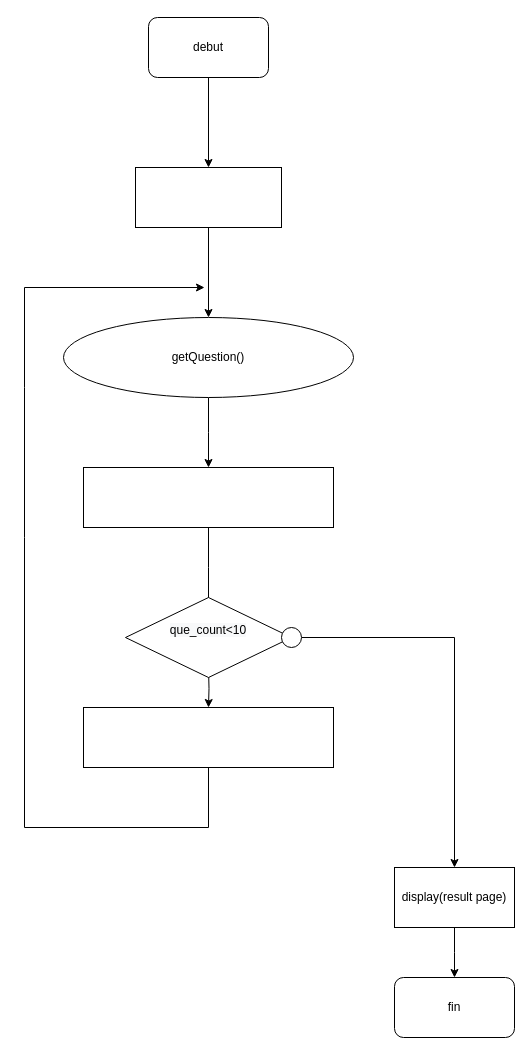
This 532x1055 diagram has some shape labels left out. Here are the shapes that lost their labels. From the top down, the box of each, then its label:
(134, 166, 282, 228): variable answerCount1 variable que_count
(82, 466, 334, 528): display(pagequestion)
(82, 706, 334, 768): que_count ++;
